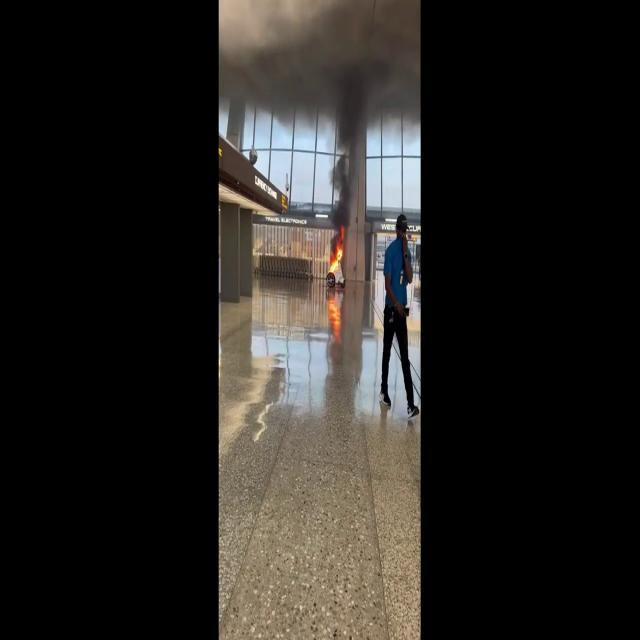Fire: (327, 237, 347, 288)
Smoke: (224, 0, 421, 127), (324, 58, 386, 218)
